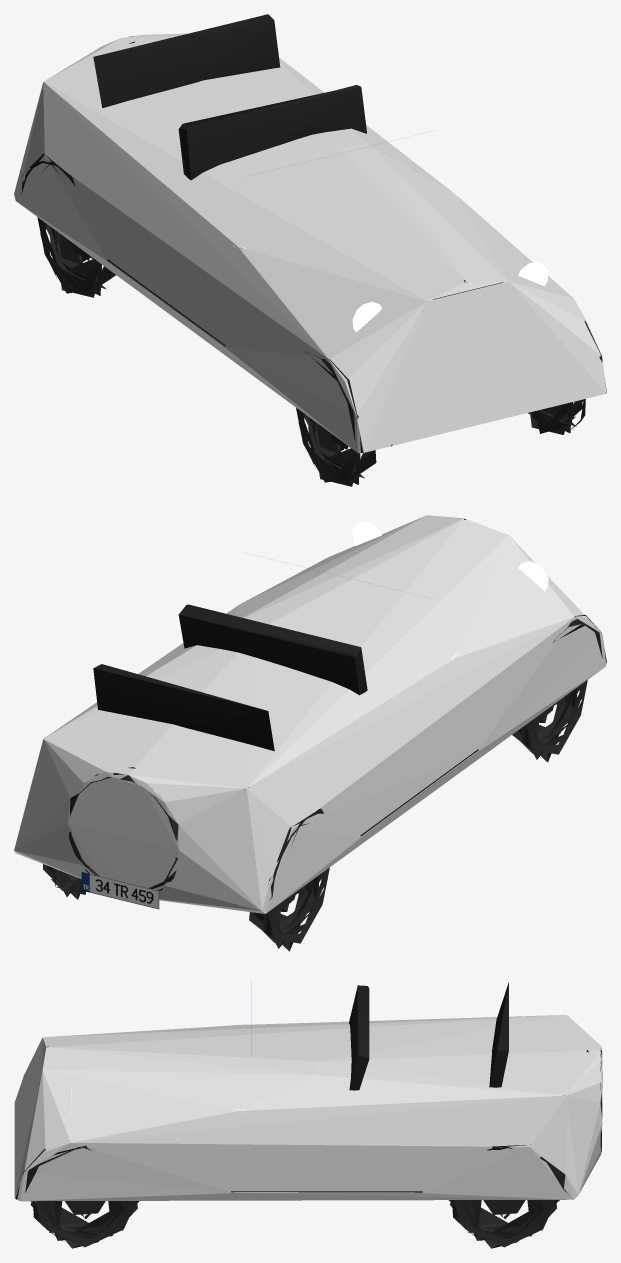
The model's file is bosfor_pera_lod2.glb.
3 renders of one model, top to bottom at view 1: azimuth 30°, elevation 25°; view 2: azimuth 150°, elevation 25°; view 3: azimuth 270°, elevation 25°, orthographic. The views are drawn at different scales.
Parts seen in each view (by area): view 1: col_body, interior, wheel_FR, wheel_RR, wheel_FL, trim, lights_front; view 2: col_body, interior, wheel_RR, wheel_FR, trim, plate_rear, lights_front, wheel_RL; view 3: col_body, wheel_RL, wheel_FL, interior, trim.
Boxes of the visible parts, x1=… form: col_body: x1=14, y1=33, x2=606, y2=453; interior: x1=93, y1=14, x2=366, y2=180; wheel_FR: x1=296, y1=408, x2=376, y2=486; wheel_RR: x1=37, y1=217, x2=115, y2=297; wheel_FL: x1=528, y1=399, x2=585, y2=434; trim: x1=20, y1=36, x2=606, y2=452; lights_front: x1=352, y1=262, x2=548, y2=331; col_body: x1=14, y1=515, x2=606, y2=913; interior: x1=93, y1=604, x2=367, y2=751; wheel_RR: x1=249, y1=867, x2=329, y2=951; wheel_FR: x1=512, y1=680, x2=587, y2=762; trim: x1=43, y1=519, x2=606, y2=900; plate_rear: x1=81, y1=872, x2=159, y2=909; lights_front: x1=352, y1=521, x2=548, y2=591; wheel_RL: x1=43, y1=864, x2=85, y2=899; col_body: x1=14, y1=1015, x2=602, y2=1201; wheel_RL: x1=448, y1=1200, x2=559, y2=1248; wheel_FL: x1=30, y1=1201, x2=139, y2=1248; interior: x1=349, y1=982, x2=508, y2=1090; trim: x1=15, y1=1046, x2=602, y2=1199.
Bounding box in the file's own units: 1.7 × 1.48 × 4.24.
Materials: 9 (1 with a texture image).
